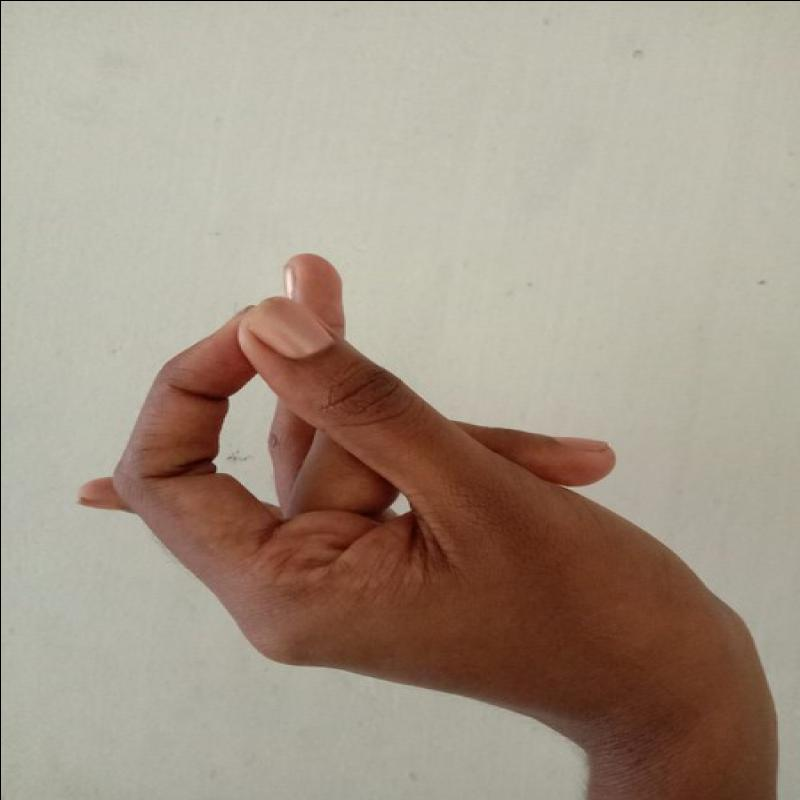Katakam: (73, 245, 729, 734)
